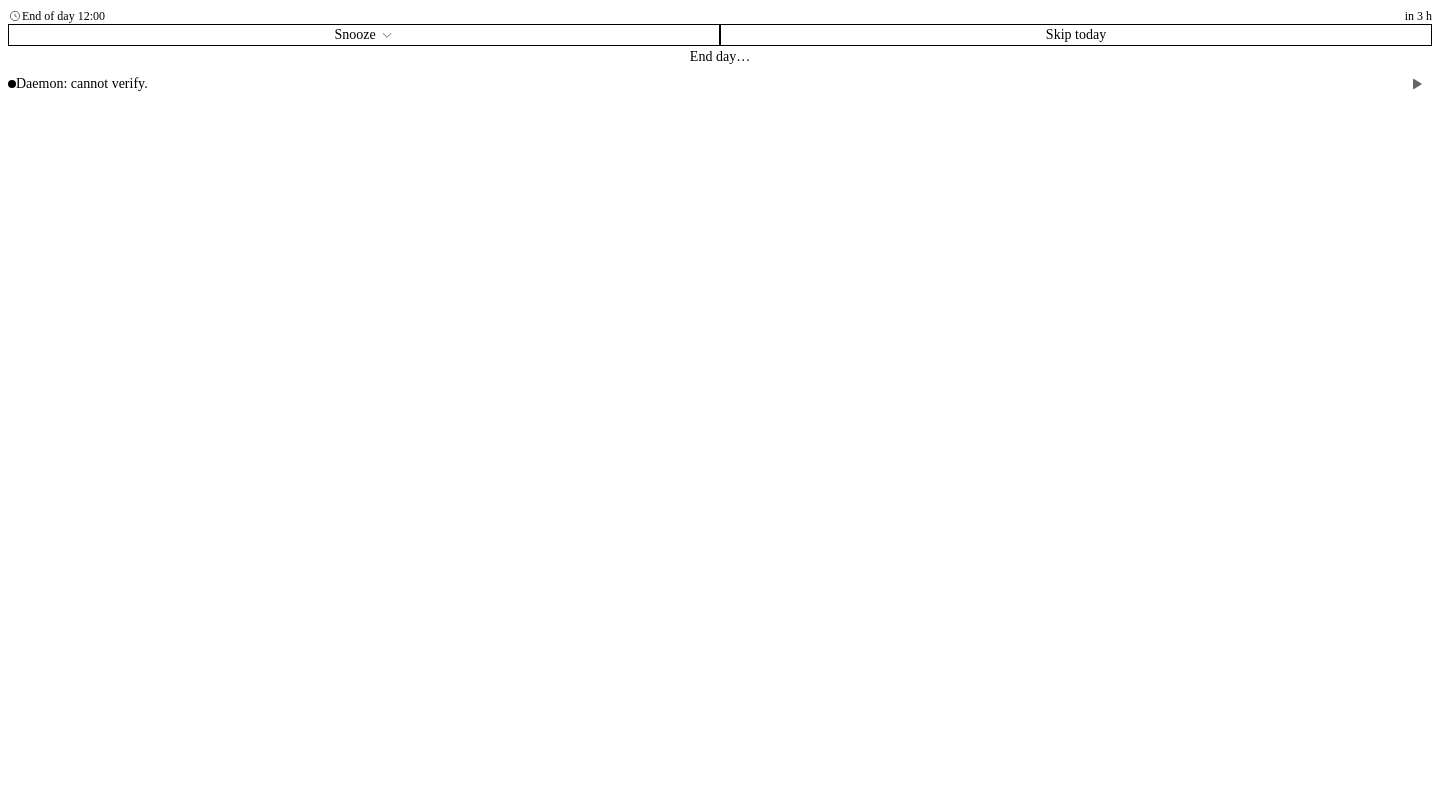
Test: SidebarFooter (D-052, V2-T75/V2-T69) › Undo snooze item (V2-T50) › is present when available, and clicking it applies the returned strip at once
Click the button "Snooze" at (364, 35), box [8,24,720,46]
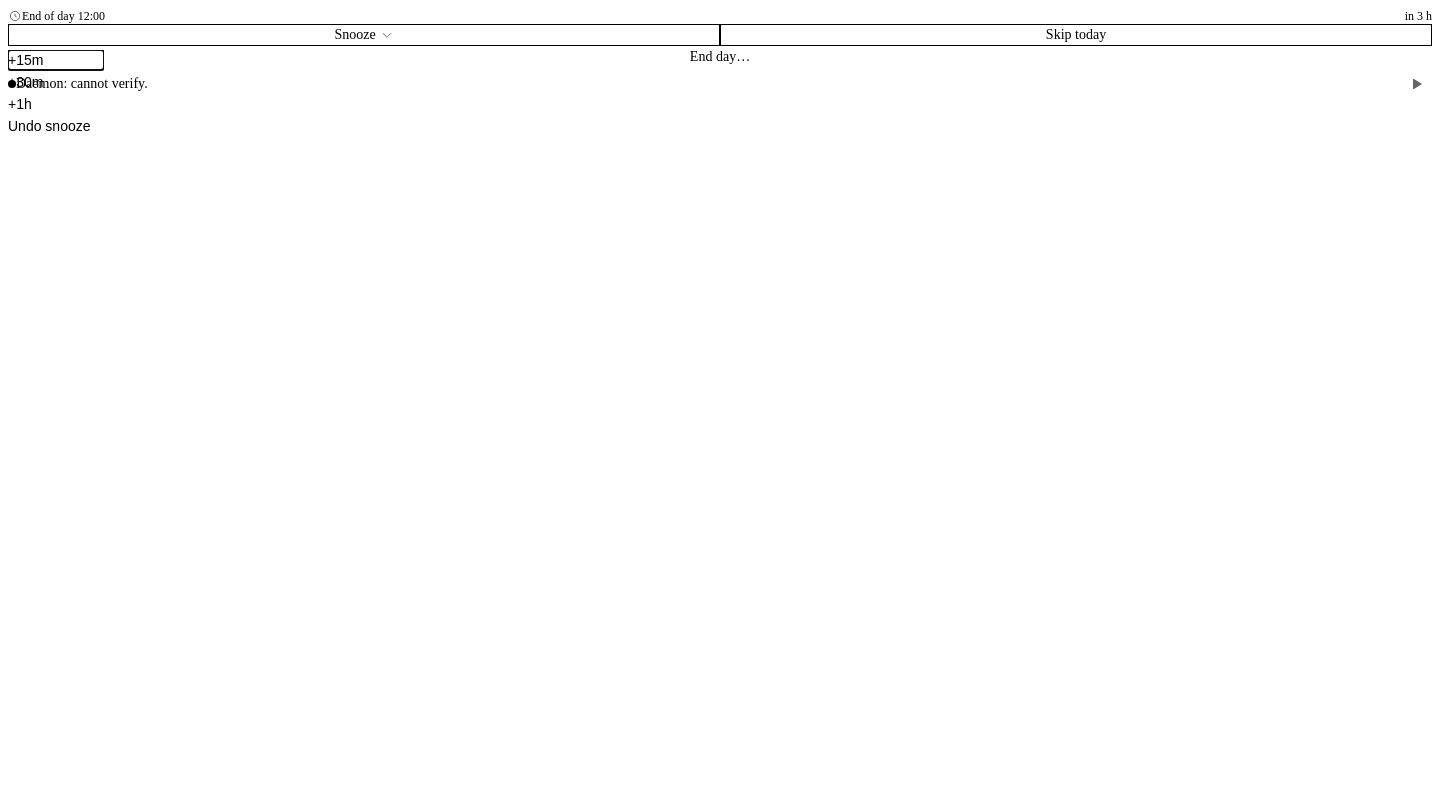
Click the menu item "Undo snooze" at (56, 126), box [8,116,104,136]
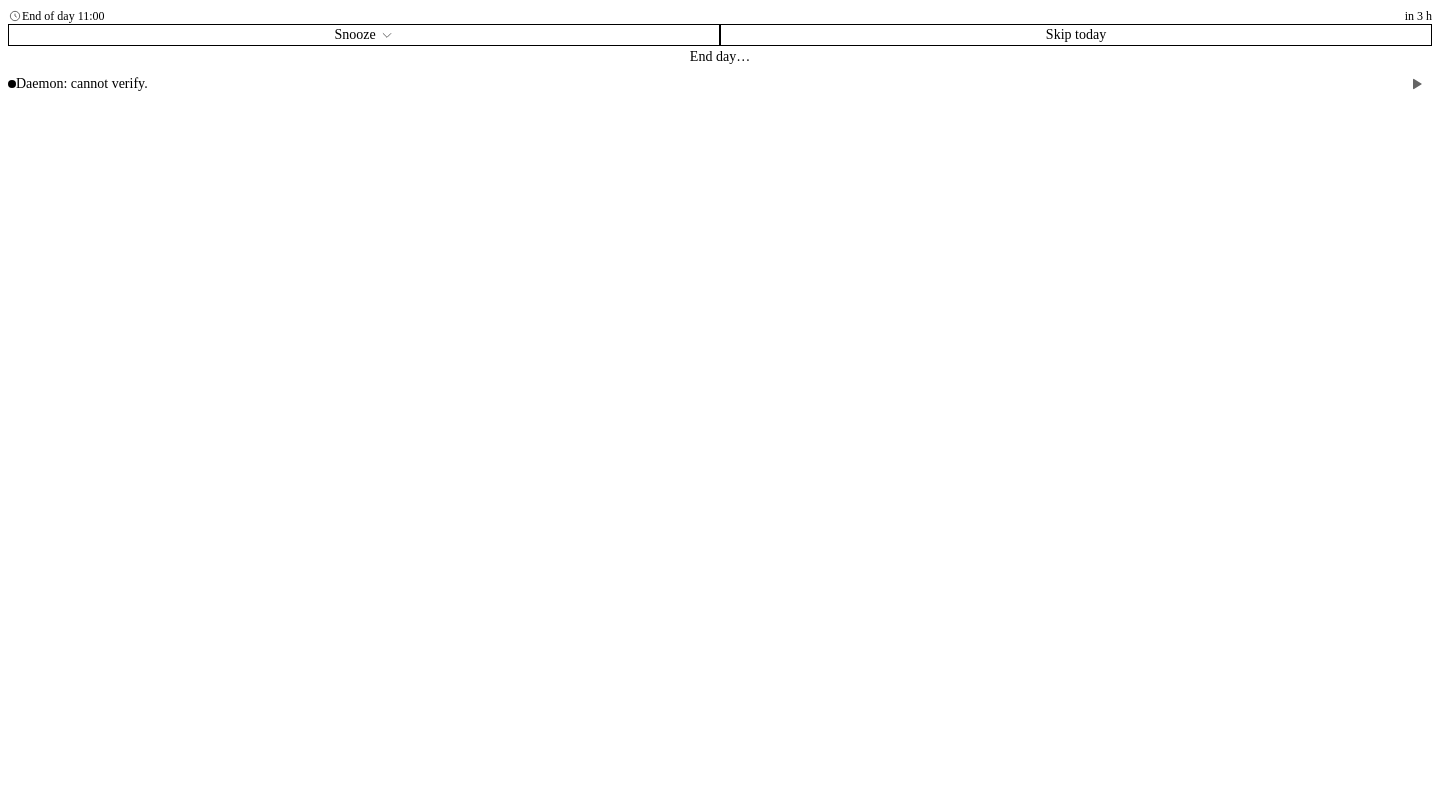
Now the text "End of day 11:00" is shown, box [22,9,104,23]
